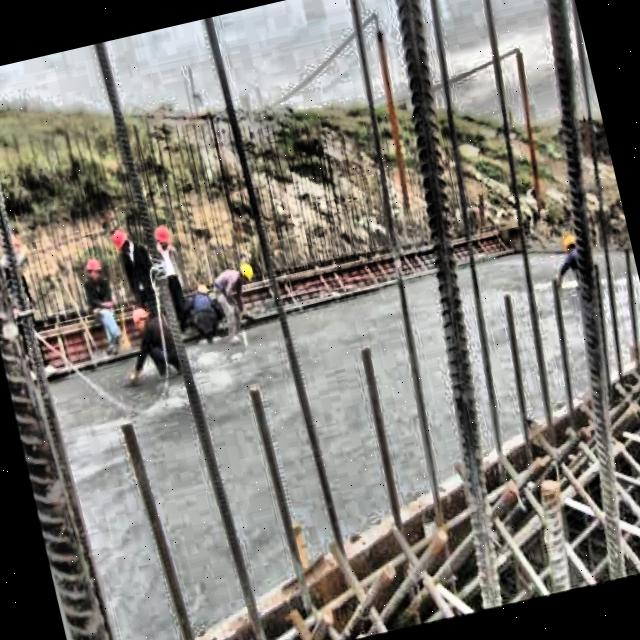helmet: (128, 303, 153, 334), (560, 230, 584, 262), (232, 258, 258, 287), (110, 225, 134, 256), (84, 253, 106, 286), (150, 221, 173, 252)
